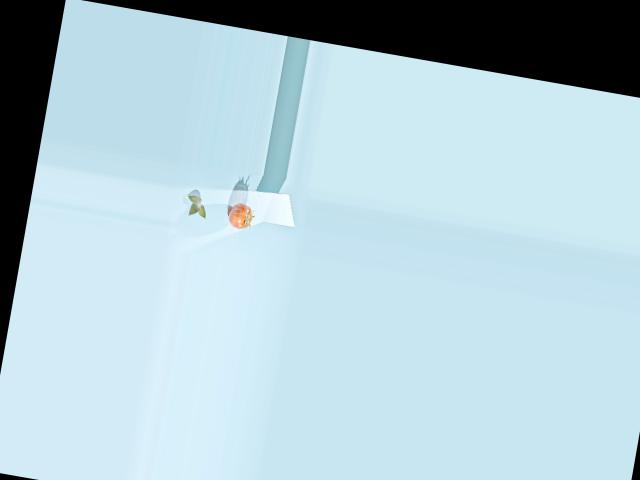tomato: (226, 201, 255, 231)
